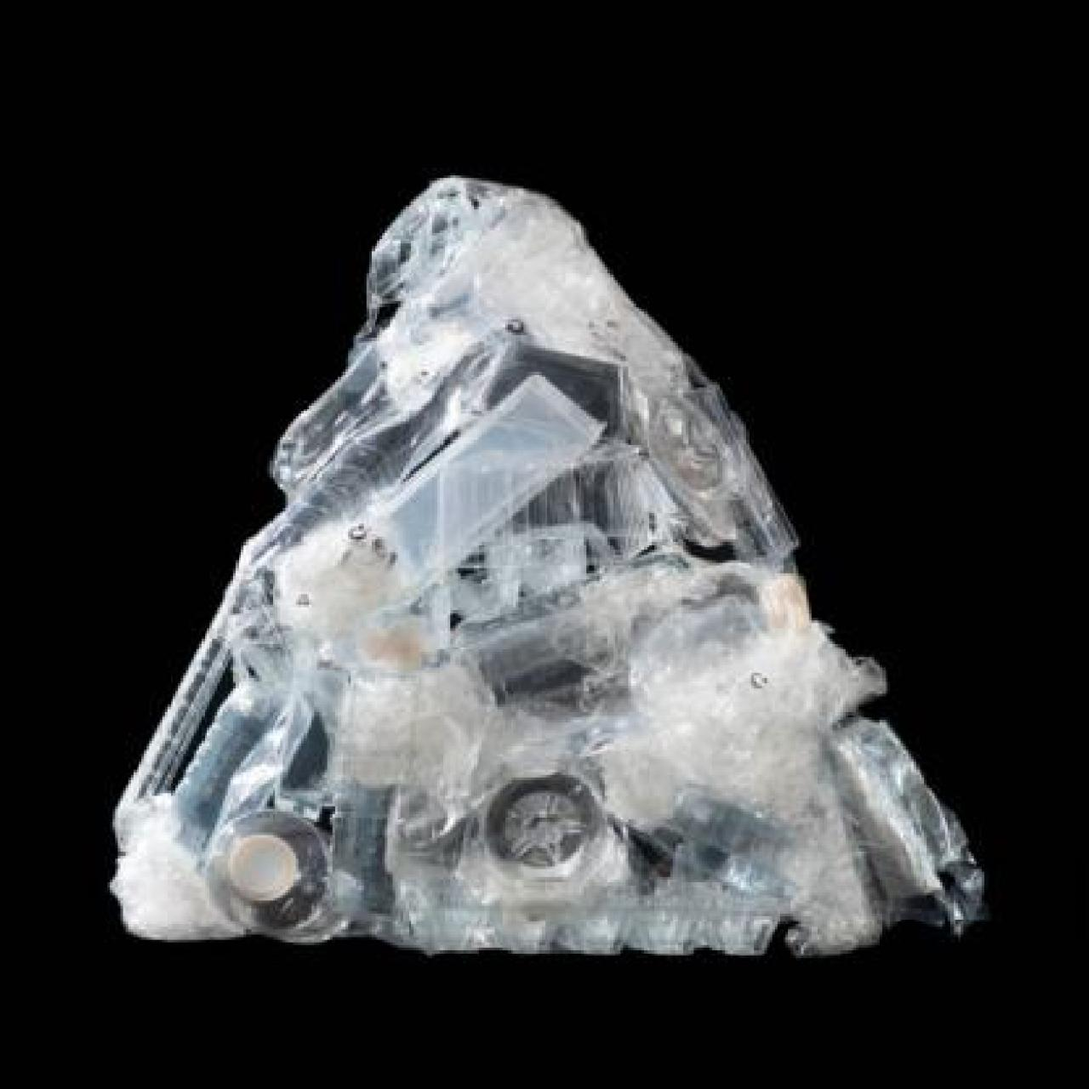normal_waste: (117, 178, 981, 952)
